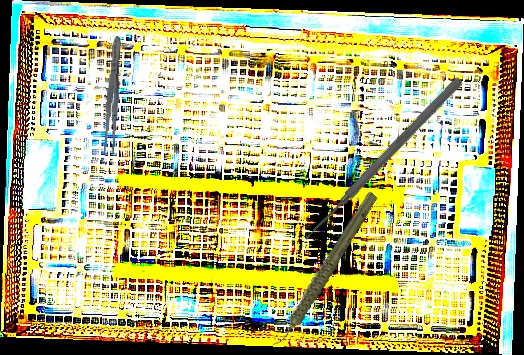Dressing Forceps: (101, 35, 125, 156)
Handpiece: (242, 189, 405, 350)
Pusher: (299, 74, 465, 246)
